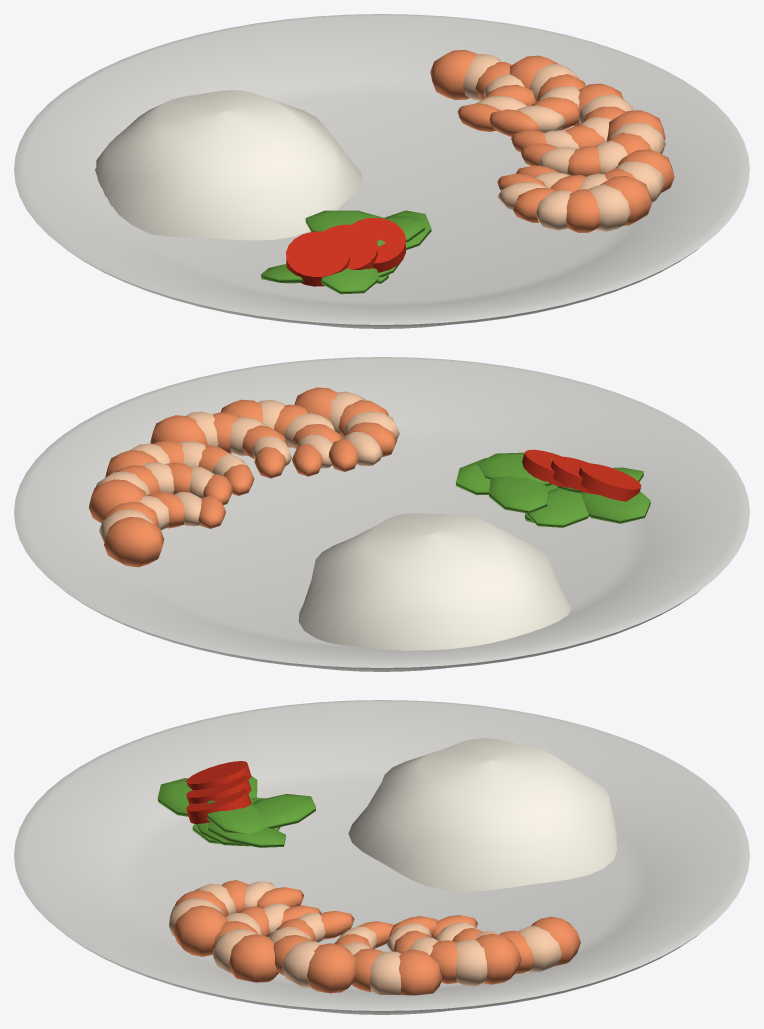
File: prato-camarao.glb
3 views of the same model, one above another, from view 1: azimuth 30°, elevation 25°; view 2: azimuth 150°, elevation 25°; view 3: azimuth 270°, elevation 25° (orthographic).
Visible parts, largest first — view 1: prato-camarao; view 2: prato-camarao; view 3: prato-camarao.
Boxes of the visible parts, <box> form: prato-camarao: <box>14,14,749,328</box>; prato-camarao: <box>14,357,749,671</box>; prato-camarao: <box>14,700,749,1014</box>.
Size of the model in its own units: 0.274 by 0.042 by 0.274.
